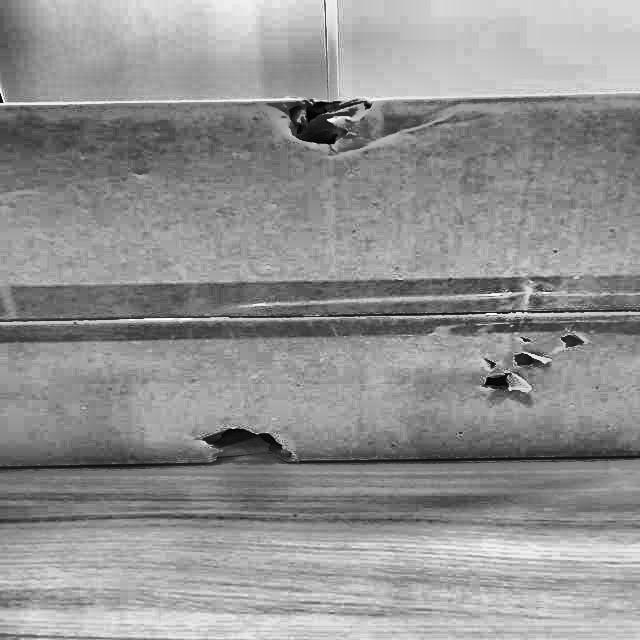box: (0, 84, 640, 473)
hole: (271, 99, 387, 152), (194, 425, 301, 461), (471, 364, 521, 396), (503, 350, 552, 369)
